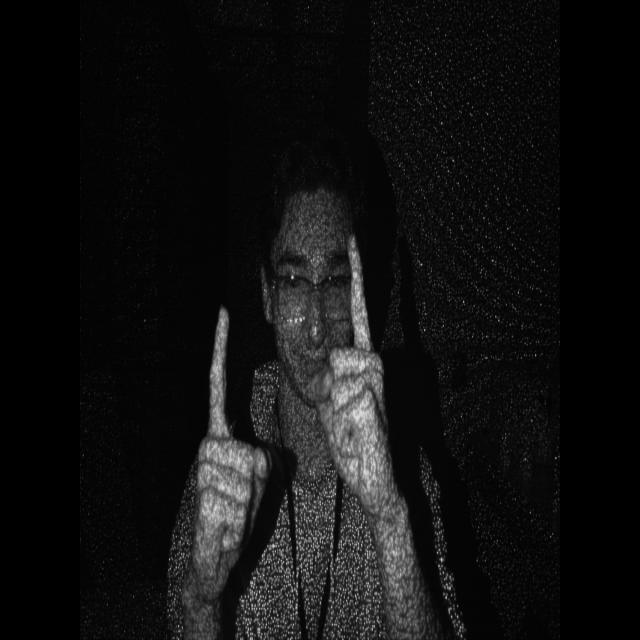STARS: (190, 296, 268, 591), (322, 217, 396, 526)
